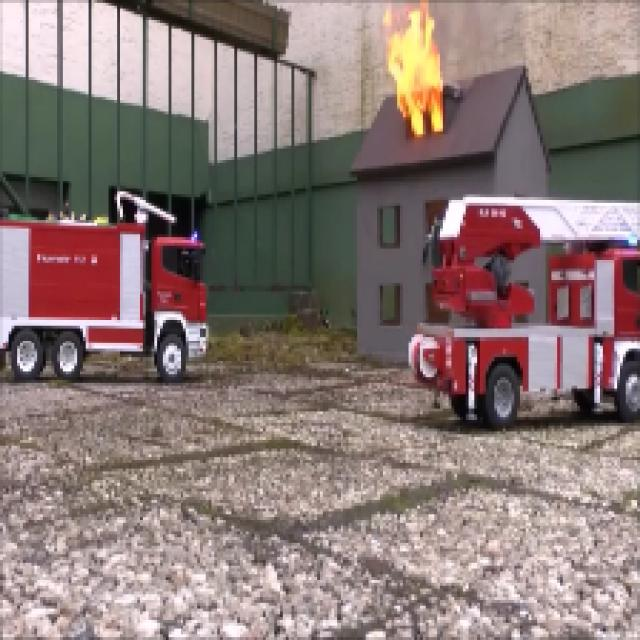fire: (384, 7, 449, 139)
